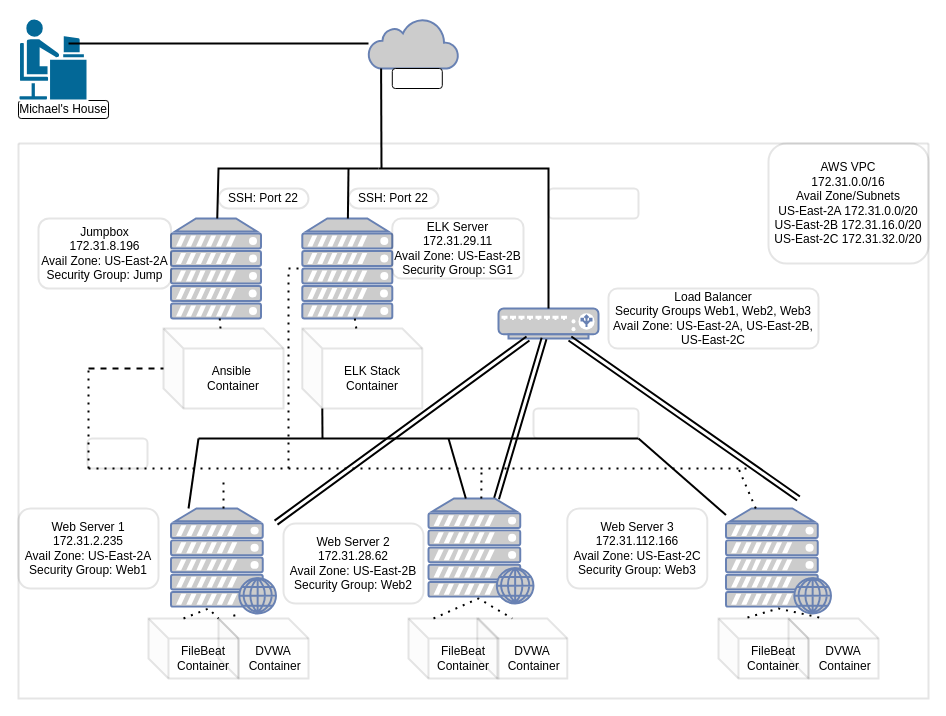
The diagram is 946 pixels wide and 716 high, and some of its shapes have lost their labels. Here are the shapes that lost their labels. From the top down, the centre of each, then its label:
At (x=416, y=78): "Internet".
At (x=593, y=203): "HTTP: Port 80".
At (x=585, y=423): "ELK Ports: 5044, 5601, 9200".
At (x=117, y=453): "SSH: 22".
